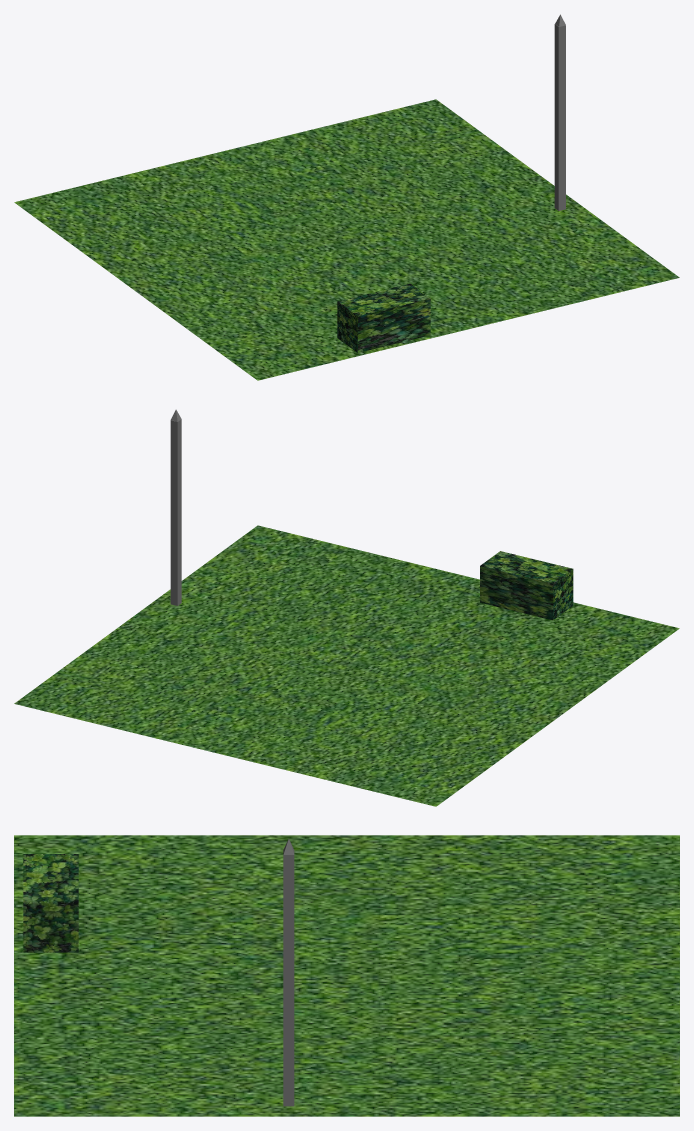
The model's file is SaunaExterior.fbx.
3 views of the same model, one above another, from view 1: azimuth 30°, elevation 25°; view 2: azimuth 150°, elevation 25°; view 3: azimuth 270°, elevation 25° (orthographic). The views are drawn at different scales.
Parts seen in each view (by area): view 1: Cube; view 2: Cube; view 3: Cube.
Boxes of the visible parts, left/top/right/bottom form: Cube: left=14, top=14, right=679, bottom=380; Cube: left=14, top=409, right=679, bottom=806; Cube: left=14, top=835, right=679, bottom=1116.
Size of the model in its own units: 2400 by 1056 by 2400.
Materials: 3 (2 with a texture image).
